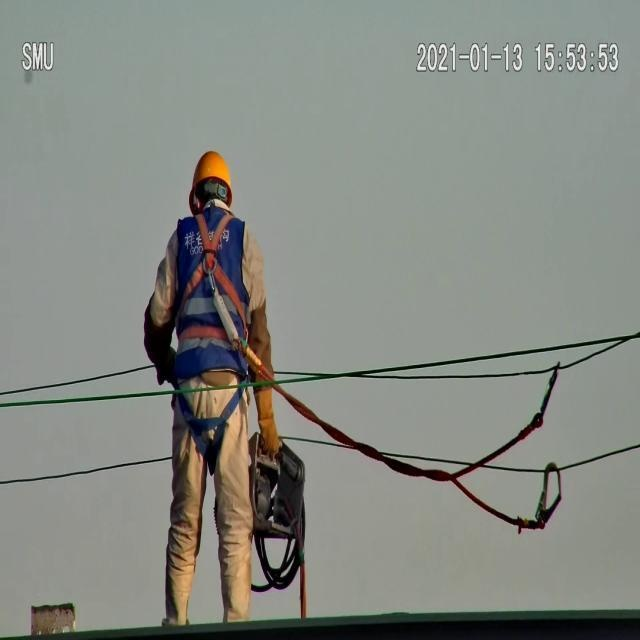Arnes_seguridad: (171, 204, 250, 378)
